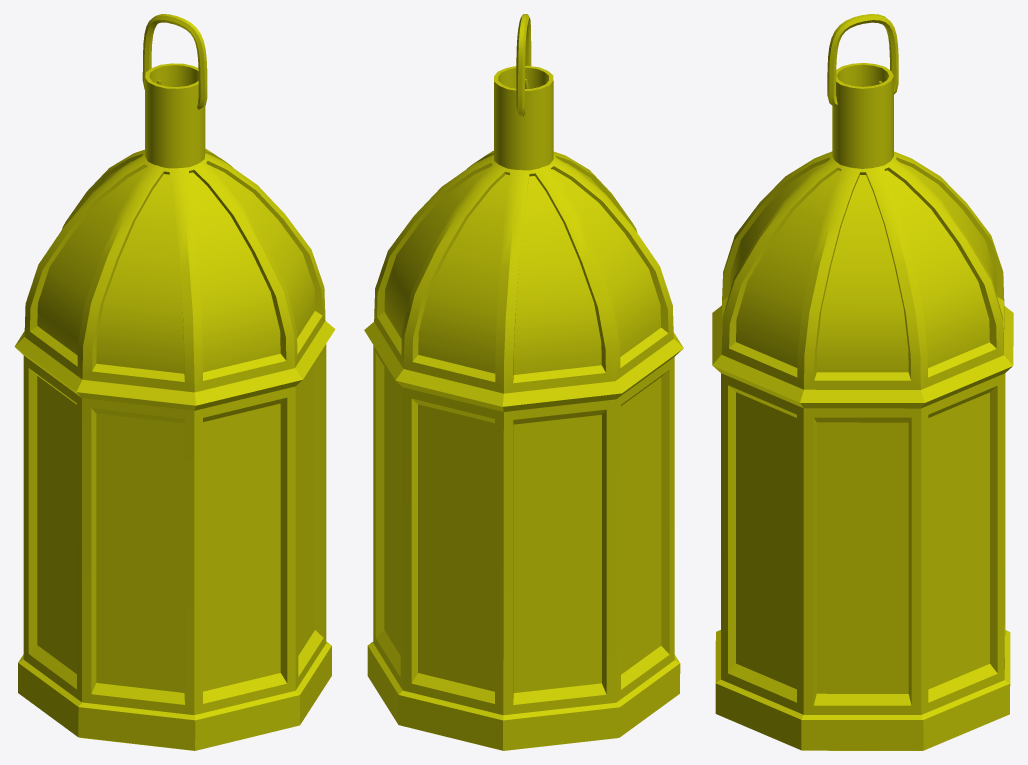
File: dfk_lamp_02.fbx
3 renders of one model, left to right at view 1: azimuth 30°, elevation 25°; view 2: azimuth 150°, elevation 25°; view 3: azimuth 270°, elevation 25°, orthographic.
Visible parts, largest first — view 1: Lamp02; view 2: Lamp02; view 3: Lamp02.
Boxes of the visible parts, box(x1,y1,x2,y2) form: Lamp02: box(14, 14, 335, 750); Lamp02: box(364, 14, 683, 750); Lamp02: box(712, 14, 1013, 750).
Size of the model in its own units: 0.1668 by 0.4116 by 0.1668.
